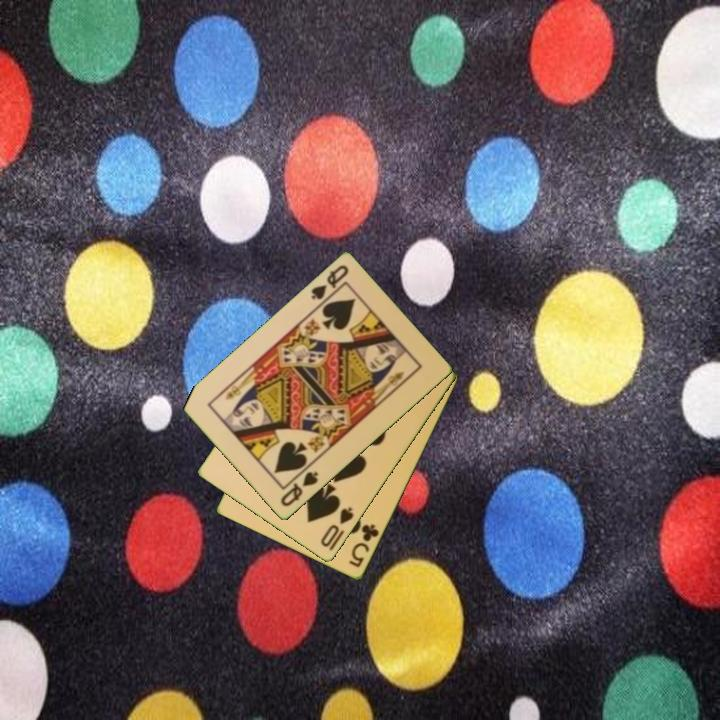10s: (317, 504, 357, 550)
5c: (346, 521, 382, 571)
Qs: (307, 262, 352, 310), (277, 468, 321, 510)
